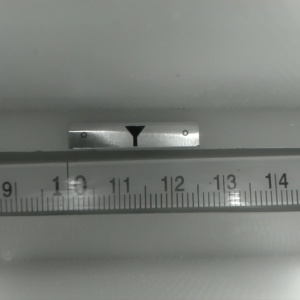1: (51, 176, 60, 194), (109, 178, 116, 193), (213, 174, 219, 190), (123, 177, 129, 193), (265, 173, 271, 189), (161, 176, 167, 192)
2: (174, 176, 184, 192)
3: (226, 174, 236, 189)
4: (278, 173, 288, 188)
9: (1, 181, 12, 197)
finger: (122, 125, 145, 148)
